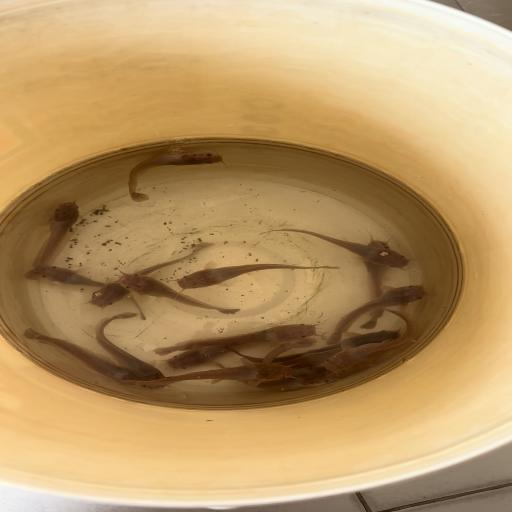lele: (87, 241, 216, 307), (22, 327, 152, 388), (256, 227, 414, 269), (324, 284, 428, 347), (324, 305, 419, 373), (219, 330, 403, 364), (38, 265, 148, 320), (92, 311, 169, 389), (127, 148, 227, 204), (114, 272, 240, 316), (152, 323, 320, 356), (119, 358, 297, 389), (176, 261, 342, 292), (22, 200, 83, 281), (200, 360, 343, 391), (160, 340, 263, 371), (358, 237, 392, 330)
